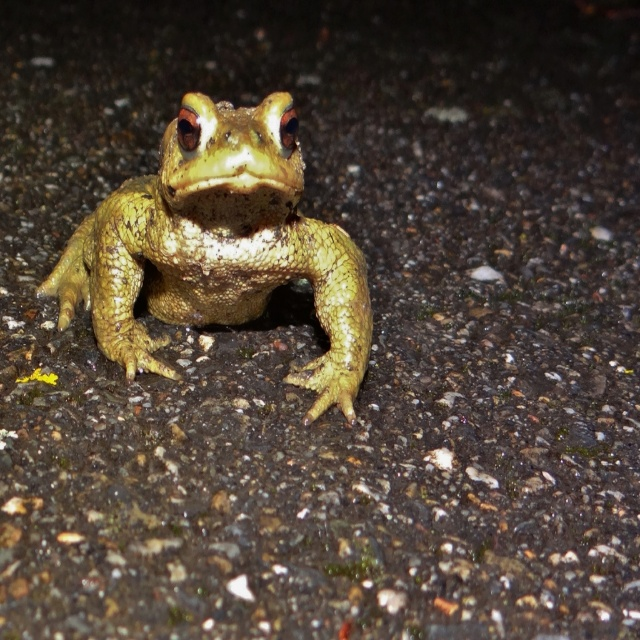Frog: (33, 92, 378, 431)
